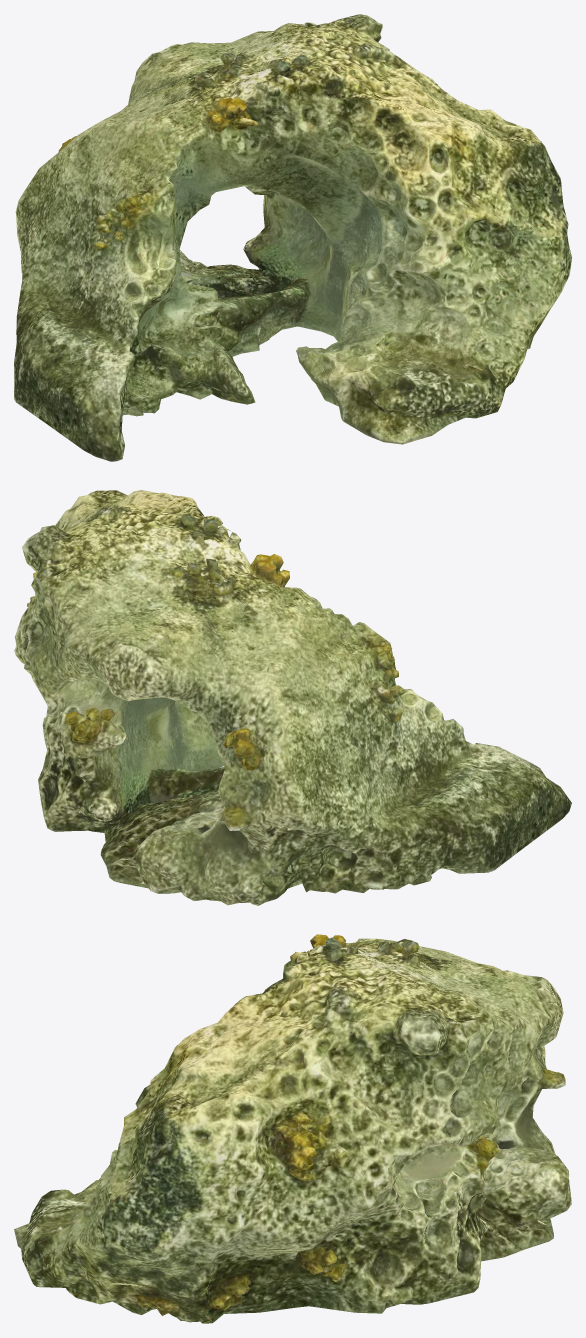
File: underwater_coral_arch.glb
3 views of the same model, one above another, from view 1: azimuth 30°, elevation 25°; view 2: azimuth 150°, elevation 25°; view 3: azimuth 270°, elevation 25° (orthographic). The views are drawn at different scales.
Visible parts, largest first — view 1: Mesh1.0; view 2: Mesh1.0; view 3: Mesh1.0.
Boxes of the visible parts, <box> form: Mesh1.0: <box>14,14,571,461</box>; Mesh1.0: <box>14,490,571,905</box>; Mesh1.0: <box>14,934,571,1323</box>.
Bounding box in the file's own units: 1.91 × 1.05 × 1.74.
Materials: 1 (1 with a texture image).
